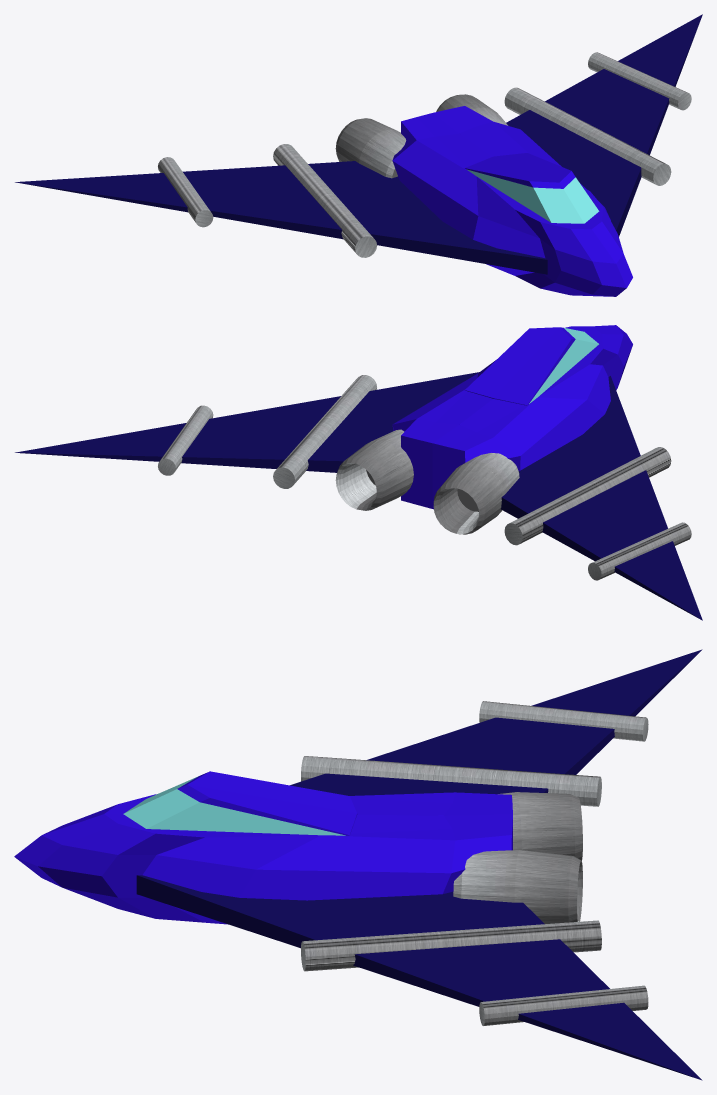
Rendered from Spaceship.fbx.
3 renders of one model, top to bottom at view 1: azimuth 30°, elevation 25°; view 2: azimuth 150°, elevation 25°; view 3: azimuth 270°, elevation 25°, orthographic. The views are drawn at different scales.
Parts seen in each view (by area): view 1: Spaceship; view 2: Spaceship; view 3: Spaceship.
Boxes of the visible parts, <box> form: Spaceship: <box>15,14,702,296</box>; Spaceship: <box>15,325,702,620</box>; Spaceship: <box>14,649,702,1080</box>.
Bounding box in the file's own units: 2171 × 269 × 1465.
